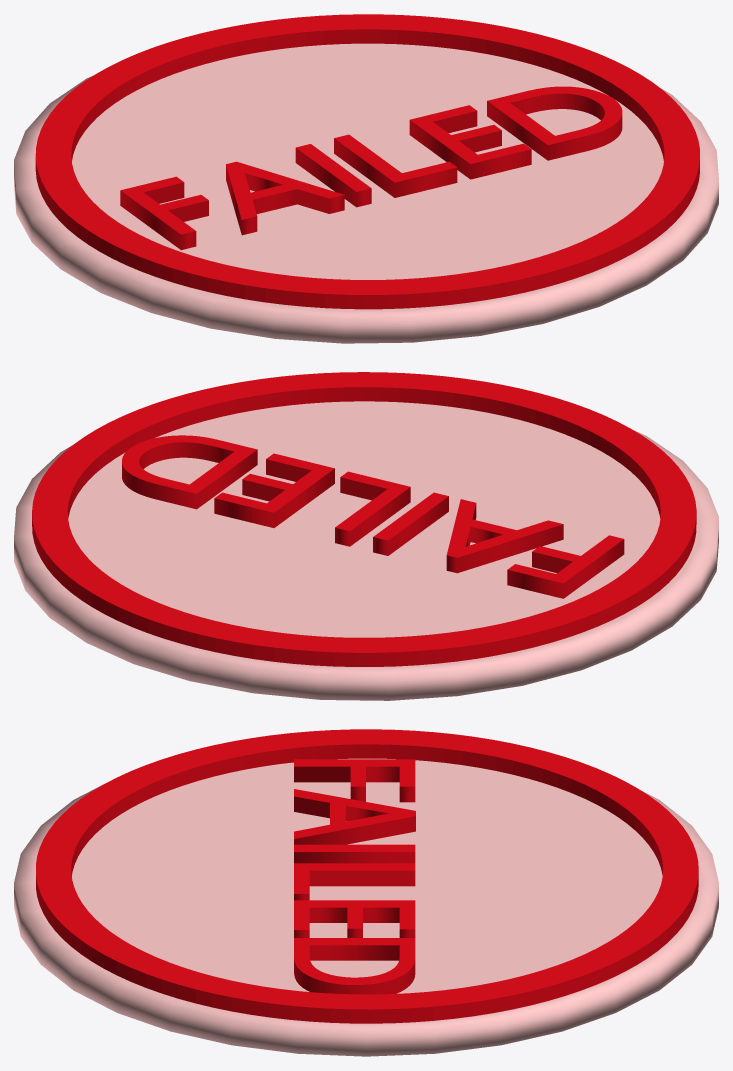
The model's file is FAILED 1.fbx.
3 views of the same model, one above another, from view 1: azimuth 30°, elevation 25°; view 2: azimuth 150°, elevation 25°; view 3: azimuth 270°, elevation 25° (orthographic).
Parts seen in each view (by area): view 1: Cylinder, Cube, FAILED; view 2: Cylinder, Cube, FAILED; view 3: Cylinder, Cube, FAILED.
Boxes of the visible parts, x1,y1,x2,y2 form: Cylinder: (14, 43, 718, 343); Cube: (35, 14, 699, 309); FAILED: (120, 86, 622, 250); Cylinder: (14, 401, 718, 700); Cube: (32, 372, 696, 666); FAILED: (122, 435, 624, 598); Cylinder: (14, 758, 718, 1056); Cube: (36, 729, 698, 1023); FAILED: (294, 759, 415, 994).
Bounding box in the file's own units: 396 × 25.07 × 396.
